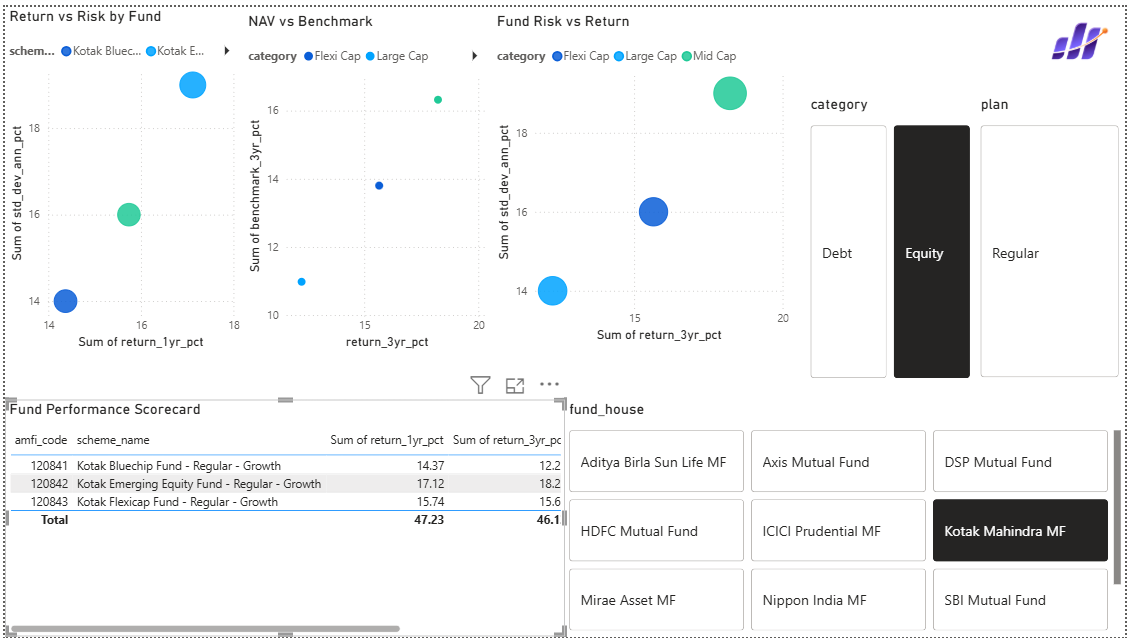

The page's visual inventory and layout, read from the dashboard file:
{"tool":"powerbi","page":{"name":"Fund Performance","canvas":[1280,720],"ordinal":1},"visuals":[{"type":"scatterChart","title":"Return vs Risk by Fund","fields":{"X":["Sum(07_scheme_performance.return_1yr_pct)"],"Y":["Sum(07_scheme_performance.std_dev_ann_pct)"],"Size":["Sum(07_scheme_performance.aum_crore)"],"Series":["07_scheme_performance.scheme_name"]},"box":[0,0,273.3,395],"z":0},{"type":"tableEx","title":"Fund Performance Scorecard","fields":{"Values":["01_fund_master.amfi_code","01_fund_master.scheme_name","Sum(07_scheme_performance.return_1yr_pct)","Sum(07_scheme_performance.return_3yr_pct)","Sum(07_scheme_performance.sharpe_ratio)","Sum(07_scheme_performance.aum_crore)"]},"box":[0,448.3,640,271.7],"z":1000},{"type":"lineChart","title":"NAV vs Benchmark","fields":{"Category":["07_scheme_performance.return_3yr_pct"],"Y":["Sum(07_scheme_performance.benchmark_3yr_pct)"],"Series":["07_scheme_performance.category"]},"box":[273.3,5,283.3,390],"z":2000},{"type":"scatterChart","title":"Fund Risk vs Return","fields":{"X":["Sum(07_scheme_performance.return_3yr_pct)"],"Y":["Sum(07_scheme_performance.std_dev_ann_pct)"],"Size":["Sum(07_scheme_performance.aum_crore)"],"Series":["07_scheme_performance.category"]},"box":[557.5,5,343.8,381.2],"z":3000},{"type":"advancedSlicerVisual","fields":{"Values":["01_fund_master.fund_house"]},"box":[640,448.8,640,271.2],"z":4000},{"type":"advancedSlicerVisual","fields":{"Values":["01_fund_master.category"]},"box":[916.2,100,193.3,329.3],"z":5000},{"type":"advancedSlicerVisual","fields":{"Values":["01_fund_master.plan"]},"box":[1110,100,168.8,328.8],"z":6000},{"type":"image","box":[1172.5,0,107.5,77.5],"z":6001}]}

Visuals, with their boxes in screenshot pixels (x1, y1, x2, y2), scaled from the page's 1280x720 canvas onto the 1127x638 screenshot:
"Return vs Risk by Fund" scatterChart: pyautogui.locateOnScreen(0, 0, 241, 350)
"Fund Performance Scorecard" tableEx: pyautogui.locateOnScreen(0, 397, 564, 637)
"NAV vs Benchmark" lineChart: pyautogui.locateOnScreen(241, 4, 490, 350)
"Fund Risk vs Return" scatterChart: pyautogui.locateOnScreen(491, 4, 794, 342)
advancedSlicerVisual - 01_fund_master.fund_house: pyautogui.locateOnScreen(564, 398, 1126, 637)
advancedSlicerVisual - 01_fund_master.category: pyautogui.locateOnScreen(807, 89, 977, 380)
advancedSlicerVisual - 01_fund_master.plan: pyautogui.locateOnScreen(977, 89, 1126, 380)
image: pyautogui.locateOnScreen(1032, 0, 1126, 69)
